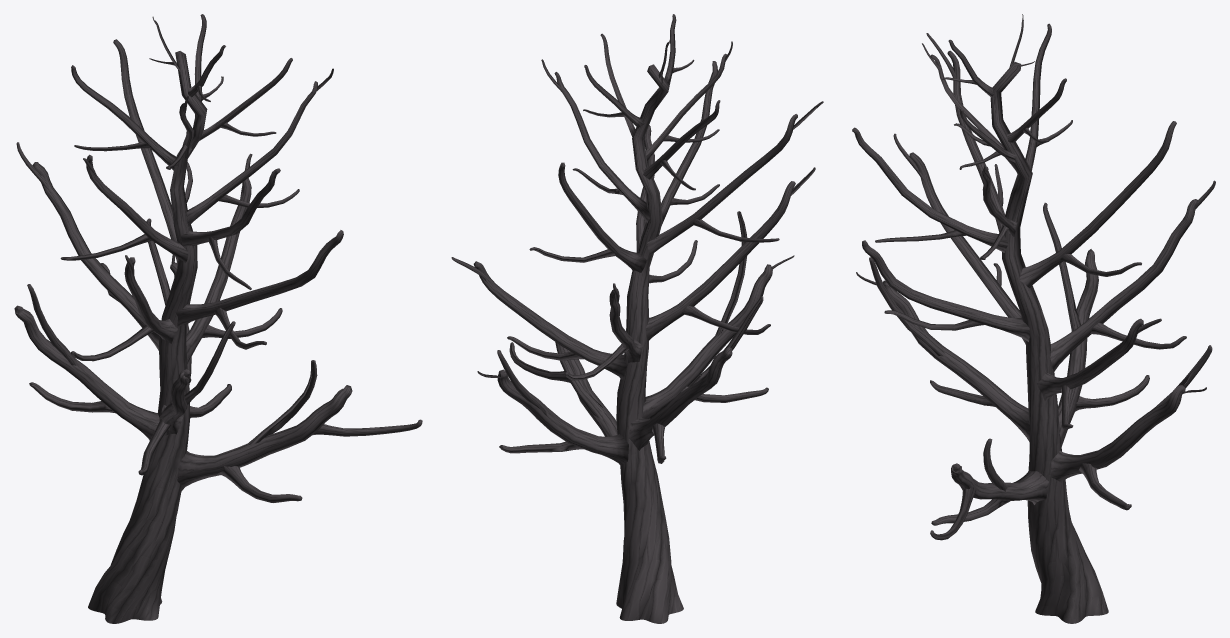
File: DeadTree_2.gltf
3 views of the same model, side by side, from view 1: azimuth 30°, elevation 25°; view 2: azimuth 150°, elevation 25°; view 3: azimuth 270°, elevation 25° (orthographic). The views are drawn at different scales.
Parts seen in each view (by area): view 1: DeadTree_2; view 2: DeadTree_2; view 3: DeadTree_2.
Boxes of the visible parts, x1,y1,x2,y2 form: DeadTree_2: (14,14,422,623); DeadTree_2: (451,14,823,623); DeadTree_2: (852,14,1215,623).
Bounding box in the file's own units: 6.73 × 11.49 × 6.38.
1 material, 1 textured.
